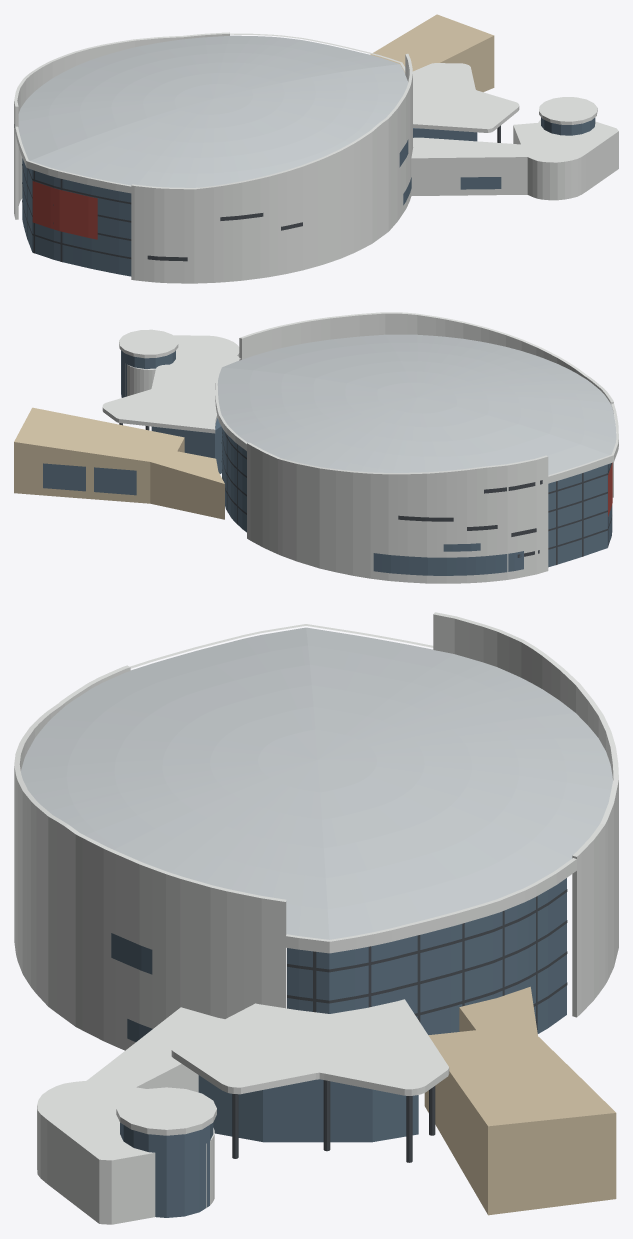
Rendered from mia-kaseya-center.glb.
The picture shows the model from 3 angles, top to bottom: view 1: azimuth 30°, elevation 25°; view 2: azimuth 150°, elevation 25°; view 3: azimuth 270°, elevation 25°; orthographic projection. The views are drawn at different scales.
Parts seen in each view (by area): view 1: Kaseya Center; view 2: Kaseya Center; view 3: Kaseya Center.
Boxes of the visible parts, left/top/right/bottom form: Kaseya Center: left=14, top=14, right=618, bottom=283; Kaseya Center: left=14, top=312, right=618, bottom=583; Kaseya Center: left=14, top=612, right=618, bottom=1224.
Bounding box in the file's own units: 229 × 46.4 × 132.
